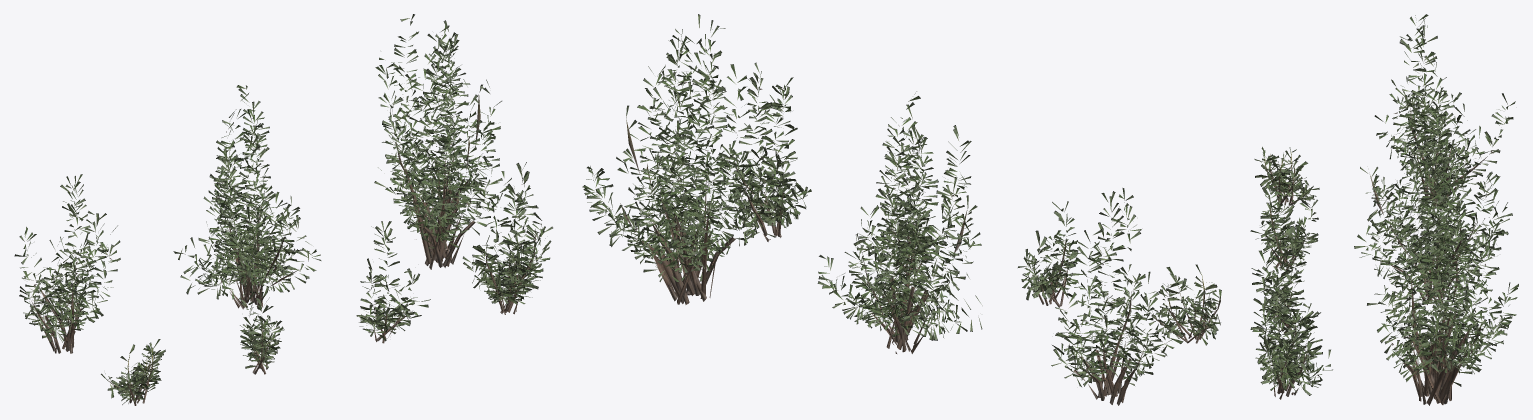
The model's file is othonna_cerarioides.glb.
3 views of the same model, side by side, from view 1: azimuth 30°, elevation 25°; view 2: azimuth 150°, elevation 25°; view 3: azimuth 270°, elevation 25° (orthographic). The views are drawn at different scales.
Visible parts, largest first — view 1: othonna_cerarioides_a; view 2: othonna_cerarioides_a; view 3: othonna_cerarioides_a.
Part boxes in pixels (left/top/right/bottom): othonna_cerarioides_a: left=14, top=14, right=552, bottom=405; othonna_cerarioides_a: left=582, top=14, right=1221, bottom=405; othonna_cerarioides_a: left=1250, top=14, right=1518, bottom=405.
Bounding box in the file's own units: 3.97 × 1.97 × 1.78.
2 materials, 2 textured.
